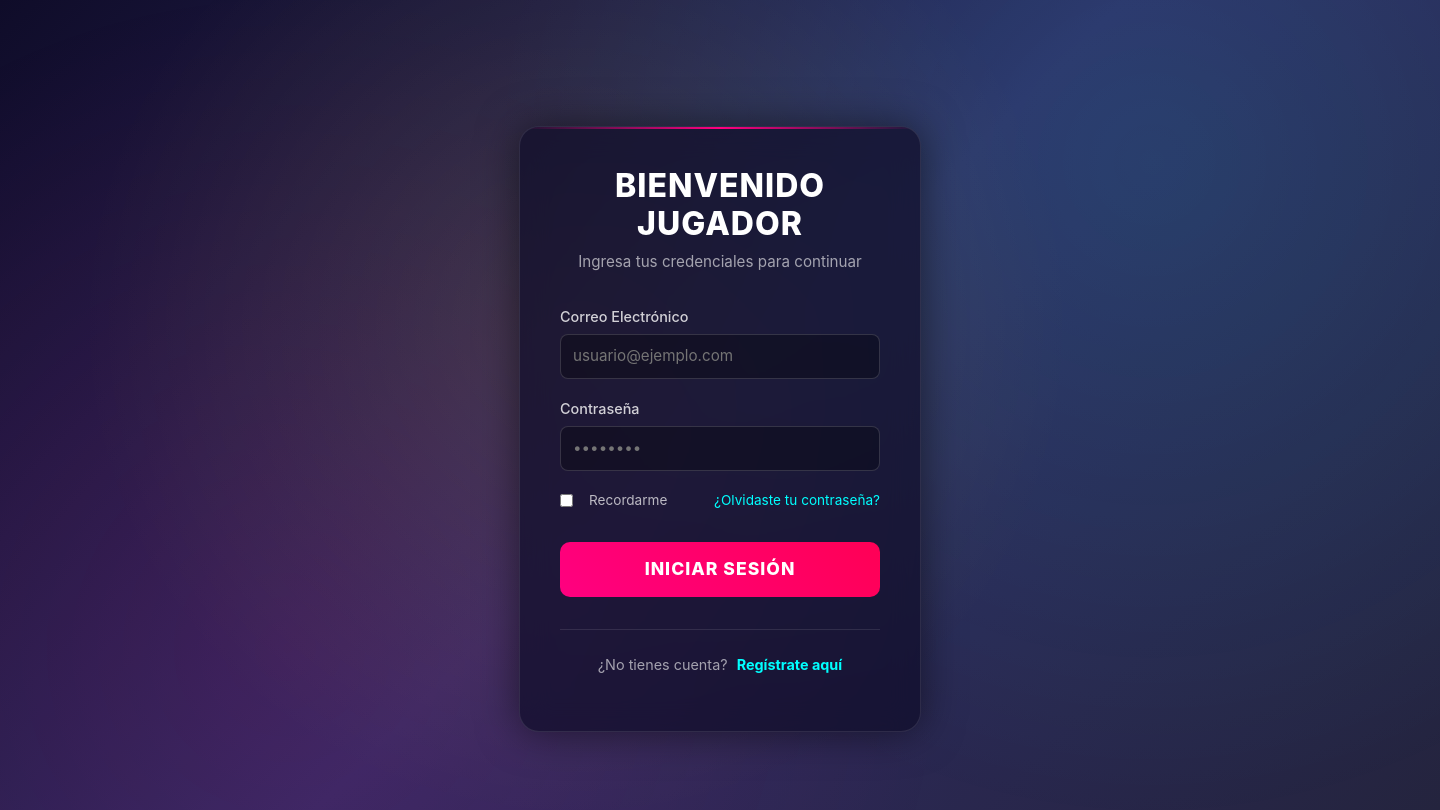
Pruebas del Componente InicioSesion › Debe manejar error de credenciales incorrectas (Error 401)
This screenshot has width=1440, height=810.
Click the button "INICIAR SESIÓN" at (720, 570), box [560, 542, 880, 597]
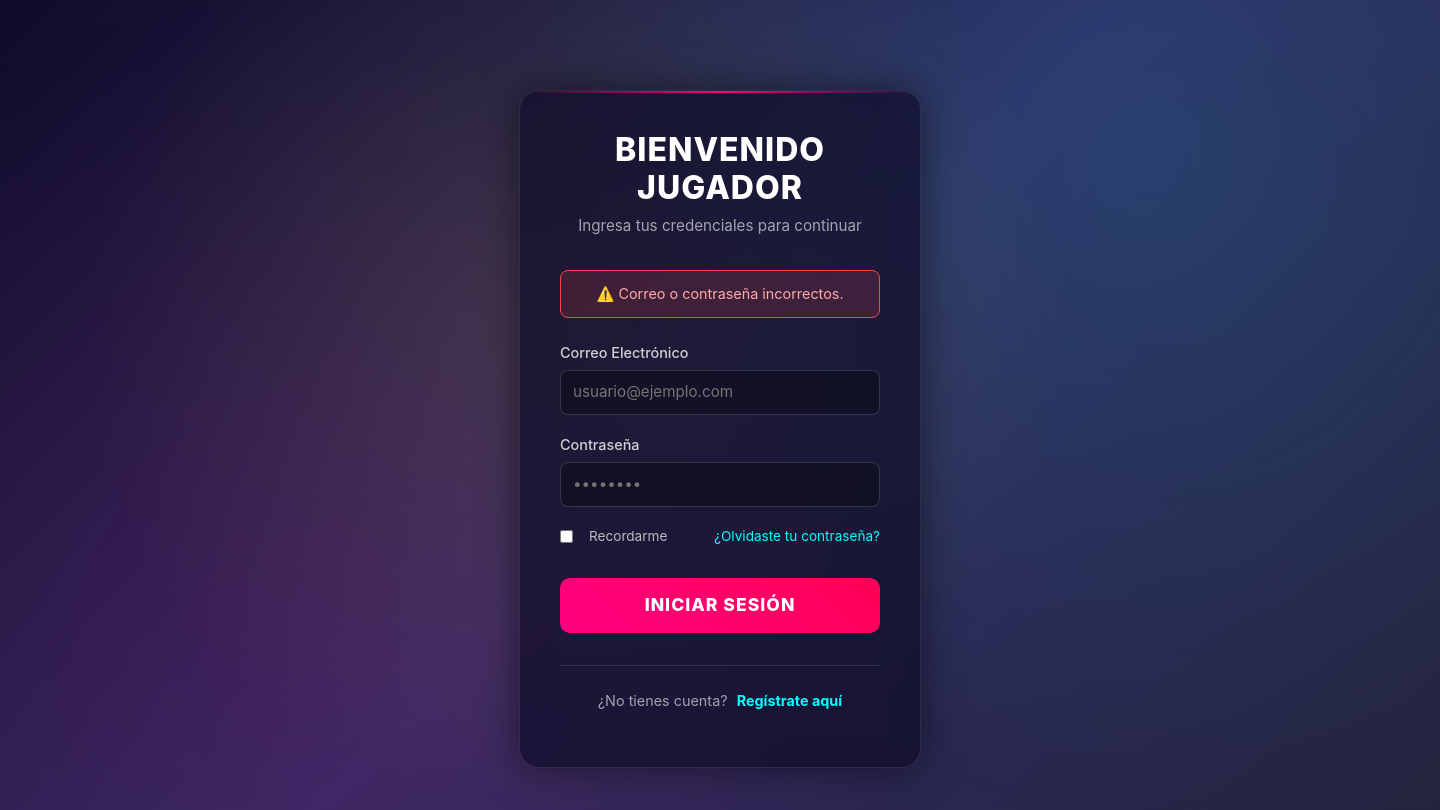
Check: the text "⚠️ Correo o contraseña incorrectos." is shown, box [560, 270, 880, 318]
